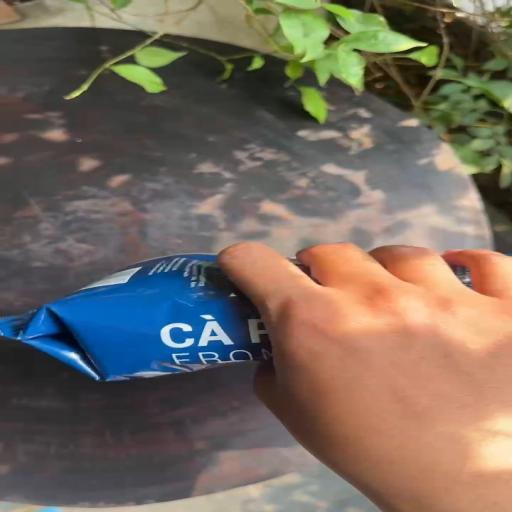cafe_hat: (0, 253, 271, 380)
